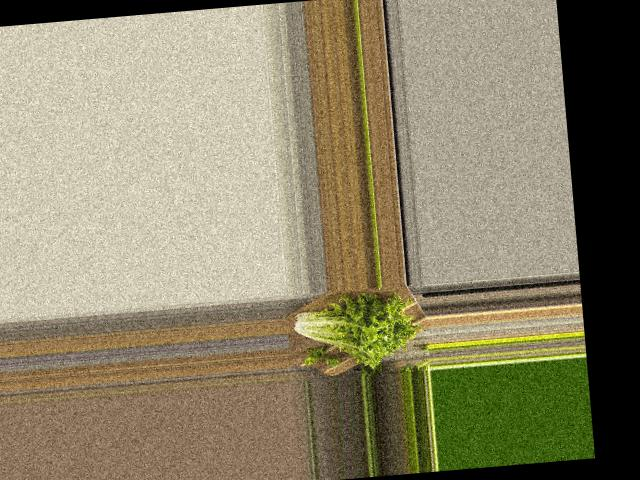lettuce: (285, 288, 418, 373)
